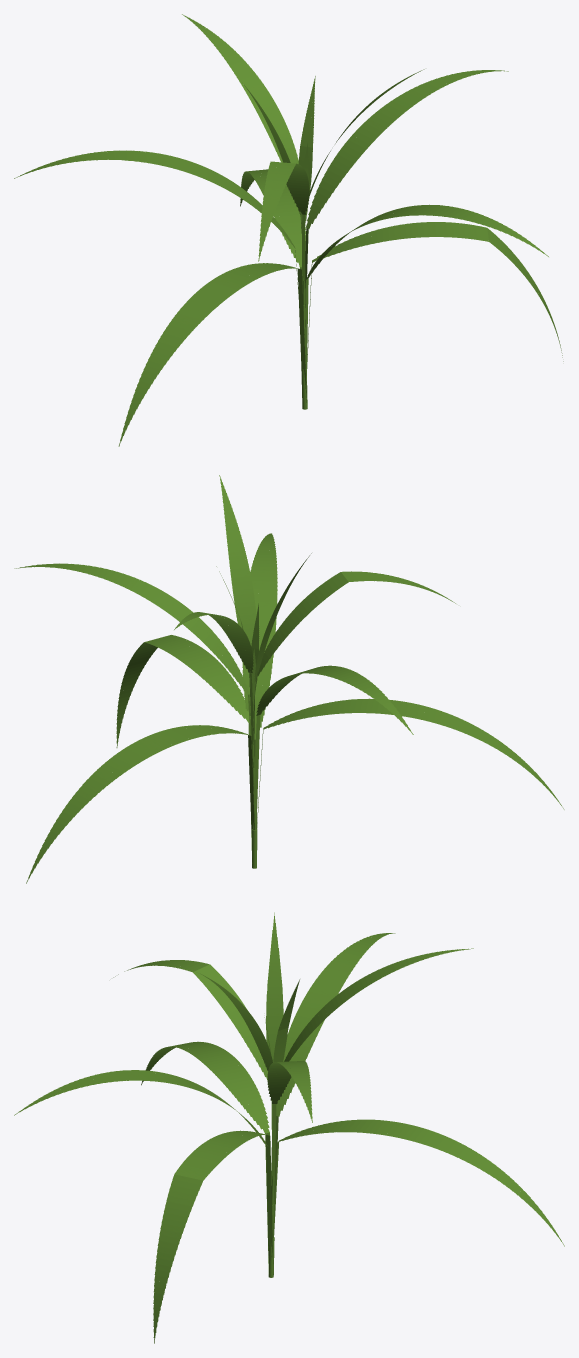
File: maize_003_day_080.dae
3 renders of one model, top to bottom at view 1: azimuth 30°, elevation 25°; view 2: azimuth 150°, elevation 25°; view 3: azimuth 270°, elevation 25°, orthographic. The views are drawn at different scales.
Parts seen in each view (by area): view 1: node; view 2: node; view 3: node.
Part boxes in pixels (left/top/right/bottom): node: left=14, top=14, right=563, bottom=446; node: left=14, top=475, right=564, bottom=883; node: left=14, top=912, right=564, bottom=1343.
Bounding box in the file's own units: 1.33 × 0.9356 × 1.35.
Materials: 1 (1 with a texture image).
